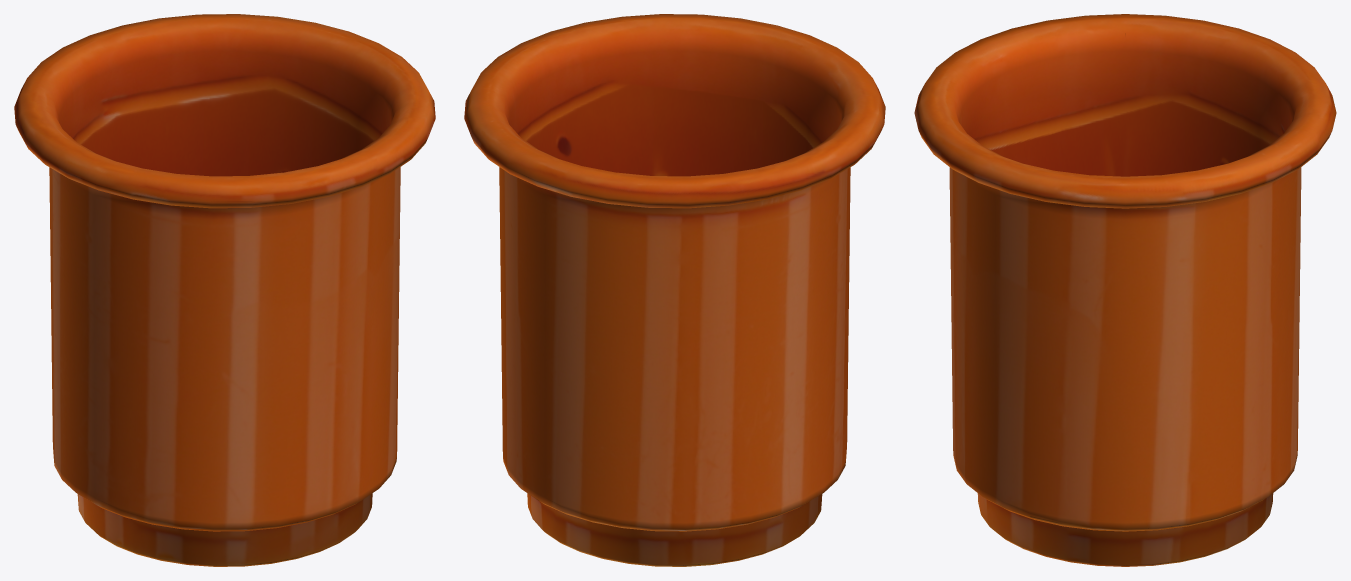
Rendered from 065-a_cups.dae.
3 views of the same model, side by side, from view 1: azimuth 30°, elevation 25°; view 2: azimuth 150°, elevation 25°; view 3: azimuth 270°, elevation 25° (orthographic).
Parts seen in each view (by area): view 1: 065-a_cups; view 2: 065-a_cups; view 3: 065-a_cups.
Part boxes in pixels (bbox=[...]): 065-a_cups: bbox=[14, 14, 435, 566]; 065-a_cups: bbox=[464, 14, 885, 566]; 065-a_cups: bbox=[914, 14, 1336, 566].
Bounding box in the file's own units: 0.057 × 0.057 × 0.0608.
1 material, 1 textured.
